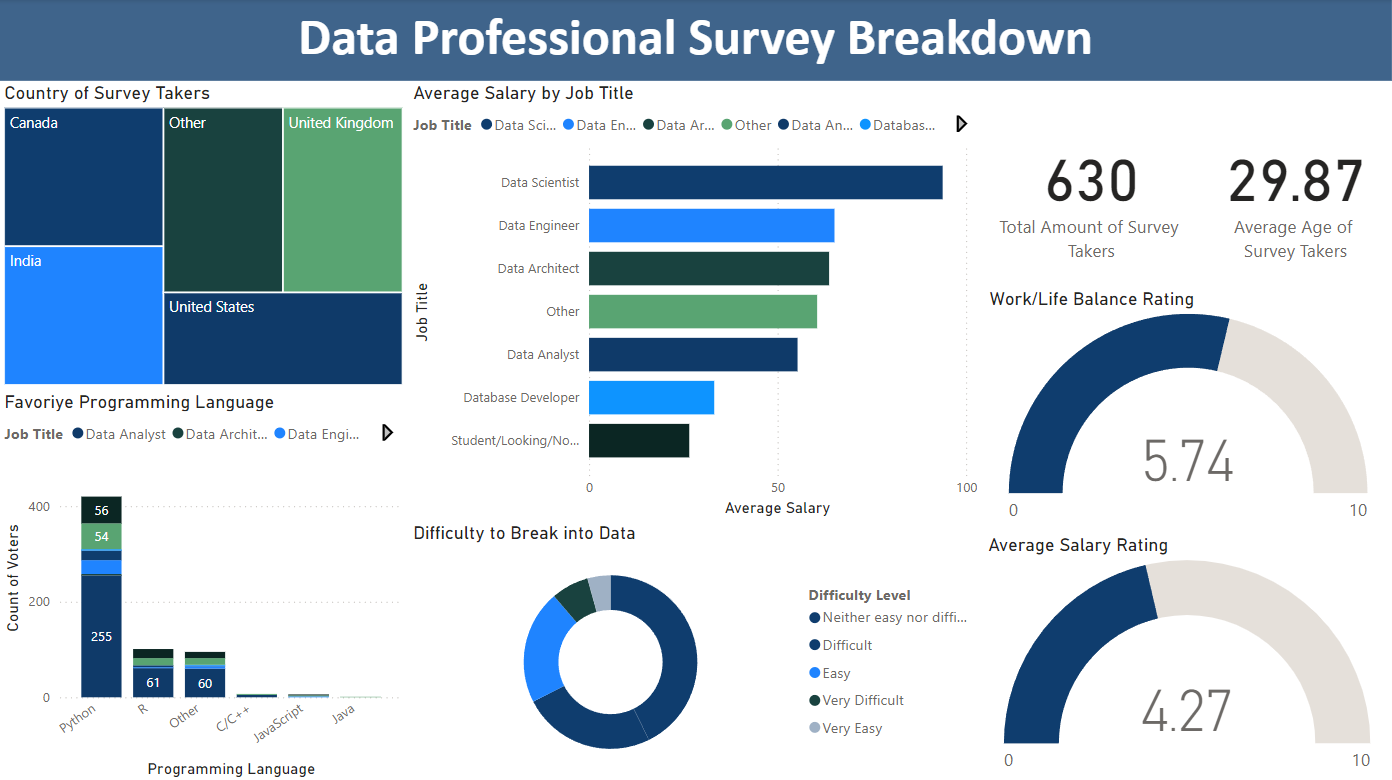

Layout of this report page (visuals, bound fields, positions):
{"tool":"powerbi","page":{"name":"Page 1","canvas":[1280,720],"ordinal":0},"visuals":[{"type":"textbox","box":[0,0,1280.3,75.5],"z":0},{"type":"card","fields":{"Values":["CountNonNull(Data Professional Survey.Unique ID)"]},"box":[904.7,75.6,197.7,189.5],"z":1000},{"type":"card","fields":{"Values":["Avg(Data Professional Survey.Q10 - Current Age)"]},"box":[1102.3,75.6,177.9,189.5],"z":2000},{"type":"barChart","title":"Average Salary by Job Title","fields":{"Category":["Data Professional Survey.Q1 - Which Title Best Fits your Current Role?.1"],"Y":["Avg(Data Professional Survey.Average Salary)"],"Series":["Data Professional Survey.Q1 - Which Title Best Fits your Current Role?.1"]},"box":[376,75.5,528.3,404.8],"z":3000},{"type":"columnChart","title":"Favorite Programming Language","fields":{"Category":["Data Professional Survey.Q5 - Favorite Programming Language.1"],"Y":["CountNonNull(Data Professional Survey.Unique ID)"],"Series":["Data Professional Survey.Q1 - Which Title Best Fits your Current Role?.1"]},"box":[0,359.5,376,360.9],"z":4000},{"type":"treemap","title":"Country of Survey Takers","fields":{"Group":["Data Professional Survey.Q11 - Which Country do you live in?.1"],"Values":["Count(Data Professional Survey.Q11 - Which Country do you live in?.1)"]},"box":[0,75.5,376,284],"z":5000},{"type":"gauge","title":"Average Salary Rating","fields":{"Y":["Avg(Data Professional Survey.Q6 - How Happy are you in your Current Position with the following? (Salary))"],"MinValue":["Min(Data Professional Survey.Q6 - How Happy are you in your Current Position with the following? (Salary))1"],"MaxValue":["Max(Data Professional Survey.Q6 - How Happy are you in your Current Position with the following? (Salary))2"]},"box":[904.3,491.3,376,229.2],"z":6000},{"type":"gauge","title":"Work/Life Balance Rating","fields":{"Y":["Avg(Data Professional Survey.Q6 - How Happy are you in your Current Position with the following? (Work/Life Balance))"],"MinValue":["Min(Data Professional Survey.Q6 - How Happy are you in your Current Position with the following? (Work/Life Balance))1"],"MaxValue":["Max(Data Professional Survey.Q6 - How Happy are you in your Current Position with the following? (Work/Life Balance))2"]},"box":[904.7,265.1,375.6,225.6],"z":7000},{"type":"donutChart","title":"Difficulty to Break into Data","fields":{"Category":["Data Professional Survey.Q7 - How difficult was it for you to break into Data?"],"Y":["CountNonNull(Data Professional Survey.Q7 - How difficult was it for you to break into Data?)"]},"box":[375.6,480.2,529.1,239.5],"z":8000}]}

Visuals, with their boxes in screenshot pixels (x1, y1, x2, y2), scaled from the page's 1280x720 canvas onto the 1392x780 screenshot:
textbox: region(0, 0, 1391, 82)
card - CountNonNull(Data Professional Survey.Unique ID): region(984, 82, 1199, 287)
card - Avg(Data Professional Survey.Q10 - Current Age): region(1199, 82, 1391, 287)
"Average Salary by Job Title" barChart: region(409, 82, 983, 520)
"Favorite Programming Language" columnChart: region(0, 389, 409, 779)
"Country of Survey Takers" treemap: region(0, 82, 409, 389)
"Average Salary Rating" gauge: region(983, 532, 1391, 779)
"Work/Life Balance Rating" gauge: region(984, 287, 1391, 532)
"Difficulty to Break into Data" donutChart: region(408, 520, 984, 779)
